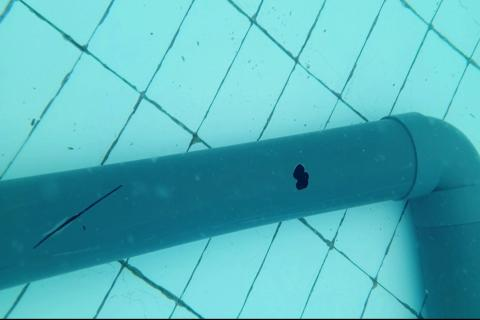kebocoran: (293, 162, 310, 193)
keretakan: (31, 182, 122, 249)
